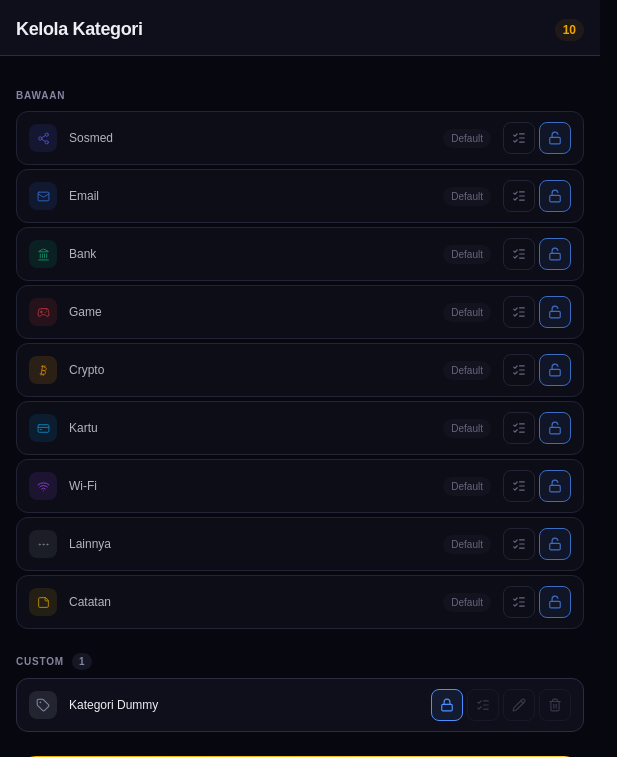
Test: CategoryManager — Lock/Unlock Kategori (v1.10.0) › membuka kunci kategori custom mengaktifkan kembali tombol Edit & Hapus
The image size is (617, 757).
Expected: the button named "Edit Kategori Dummy" is disabled, [503,689,535,721]
Click the button named "Buka kunci kategori Kategori Dummy" at (447, 705), box [431,689,463,721]
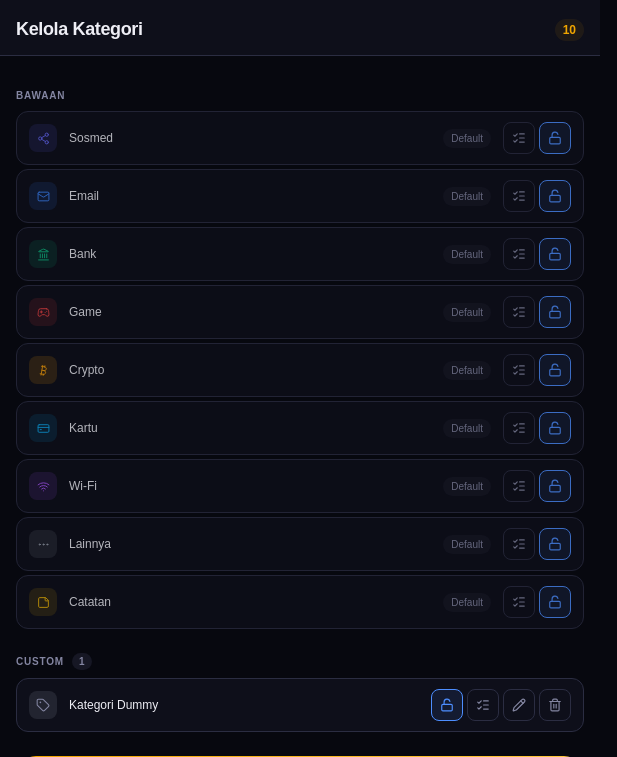
Expected: the button named "Edit Kategori Dummy" is enabled, [503,689,535,721]
Expected: the button named "Hapus Kategori Dummy" is enabled, [539,689,571,721]
